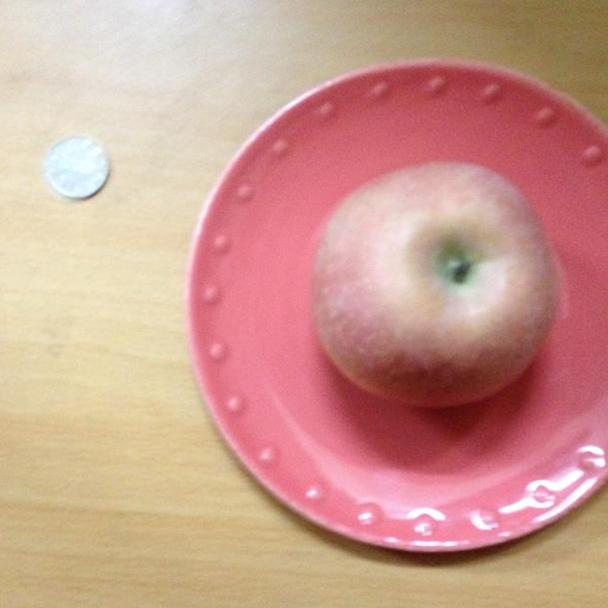apple: (313, 160, 553, 410)
